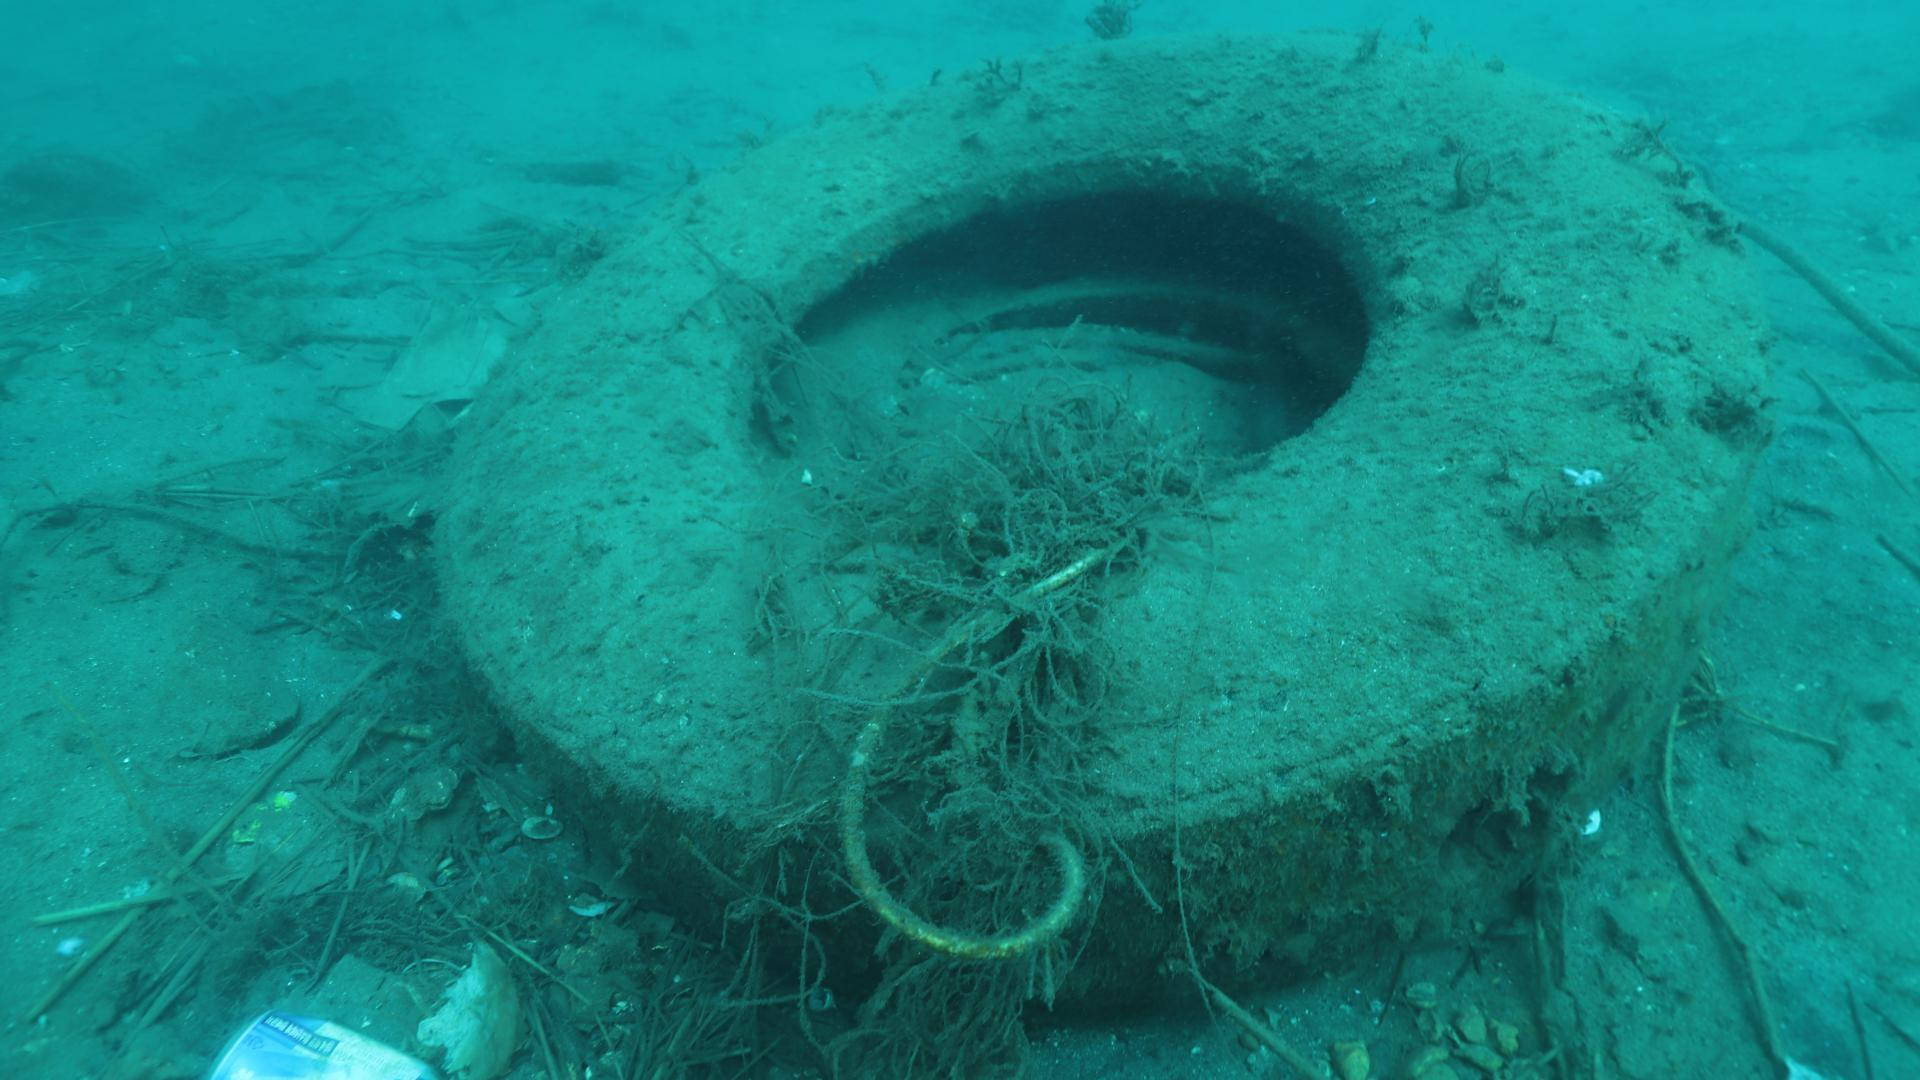tire: (431, 34, 1772, 1015)
